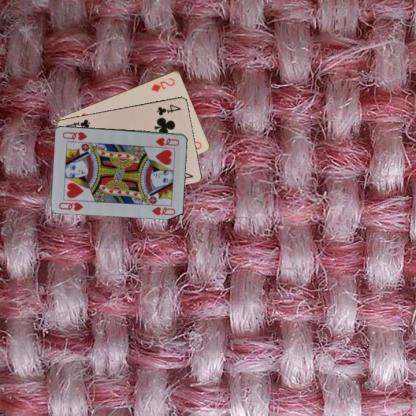2d: (148, 75, 176, 93)
4c: (154, 102, 182, 116)
Qh: (56, 199, 84, 212), (153, 134, 181, 146)
